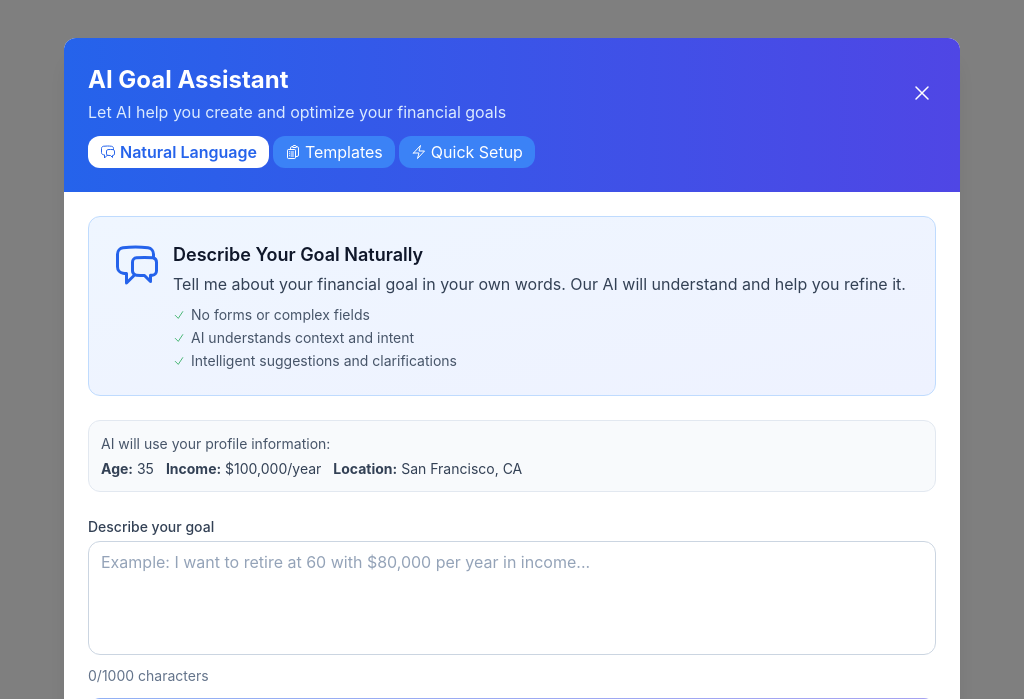
Scenario: AIGoalAssistant › switches between modes correctly
The width and height of the screenshot is (1024, 699).
What coordinates should you click on to do the following:
click the button "Templates"
I would click on:
 (334, 152)
Its box is [273,136,395,168].
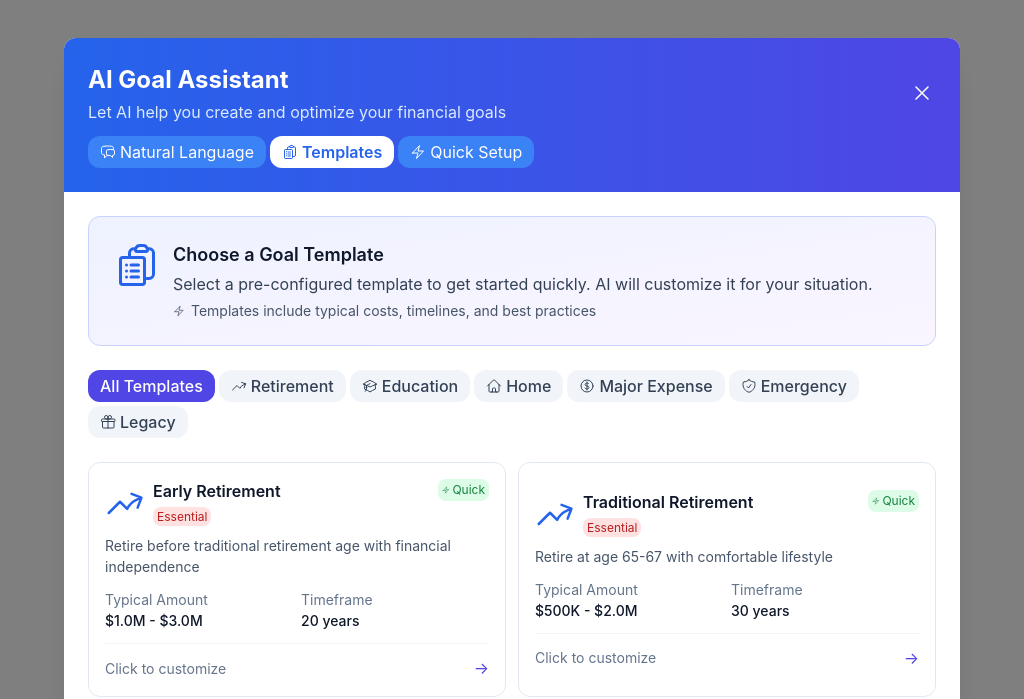
Expected: the heading "Choose a Goal Template" is shown, [173,244,384,265]
